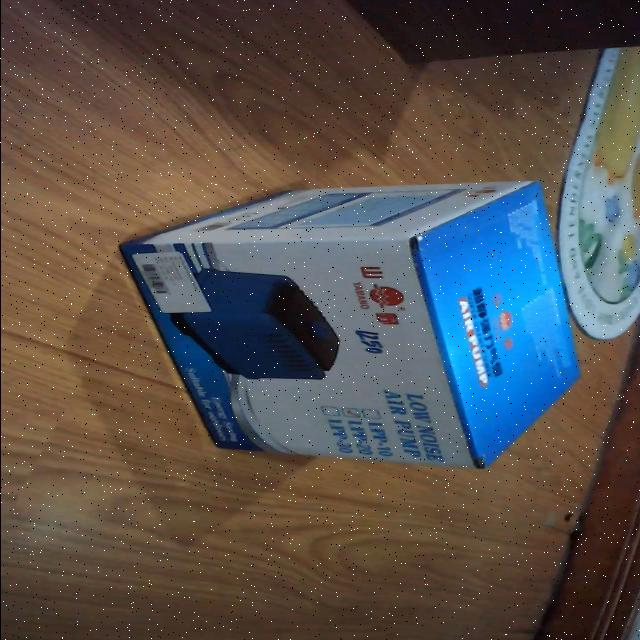YAMANO_LPP_20: (107, 172, 590, 474)
